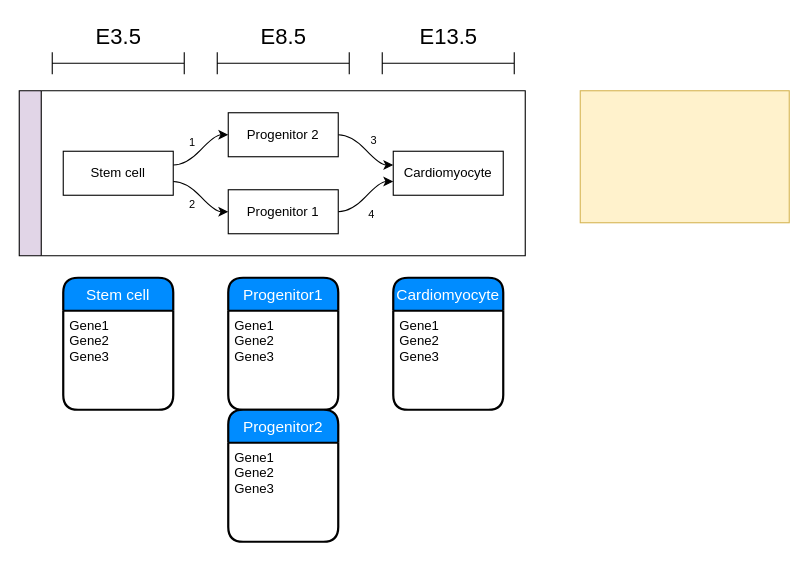
The diagram is 809 pixels wide and 561 high, and some of its shapes have lost their labels. Each missing label, with the box of its shape:
Cardiac development: (18, 90, 525, 256)
Reference 1. Ref1 2. Ref2 3.Ref3 4. Ref4: (579, 90, 789, 223)
